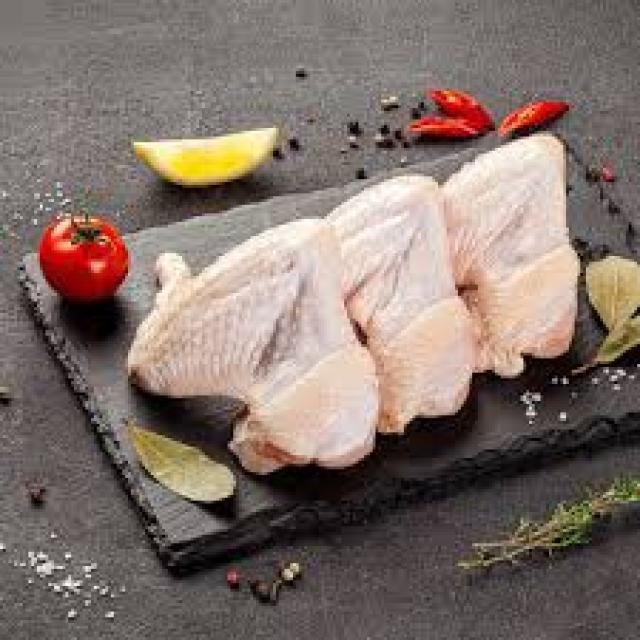wing: (146, 244, 378, 473), (300, 192, 470, 432), (443, 135, 581, 361)
